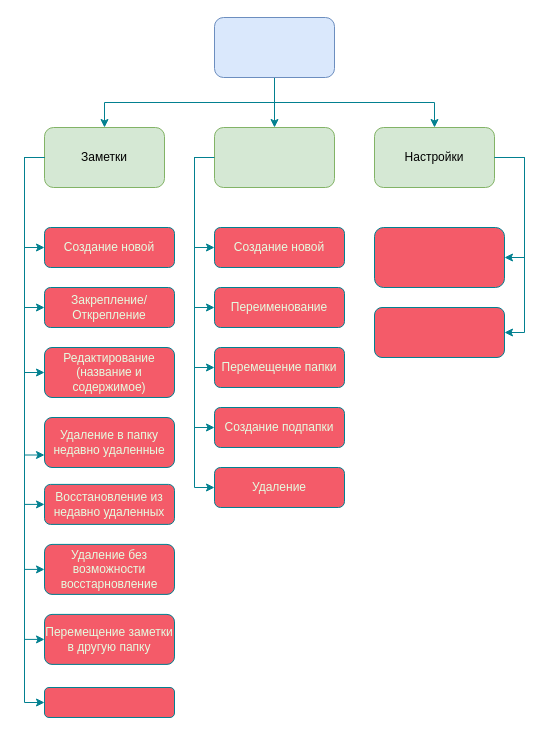
This 550x735 diagram has some shape labels left out. The centre of each missing label's shape, as x and y in pixels:
KRB Notes: the point at 274,47
Папки: the point at 274,157
Поиск: the point at 109,702
Скрыть боковую панель: the point at 439,332
Сменить тему приложения на светлую/темную: the point at 439,257
